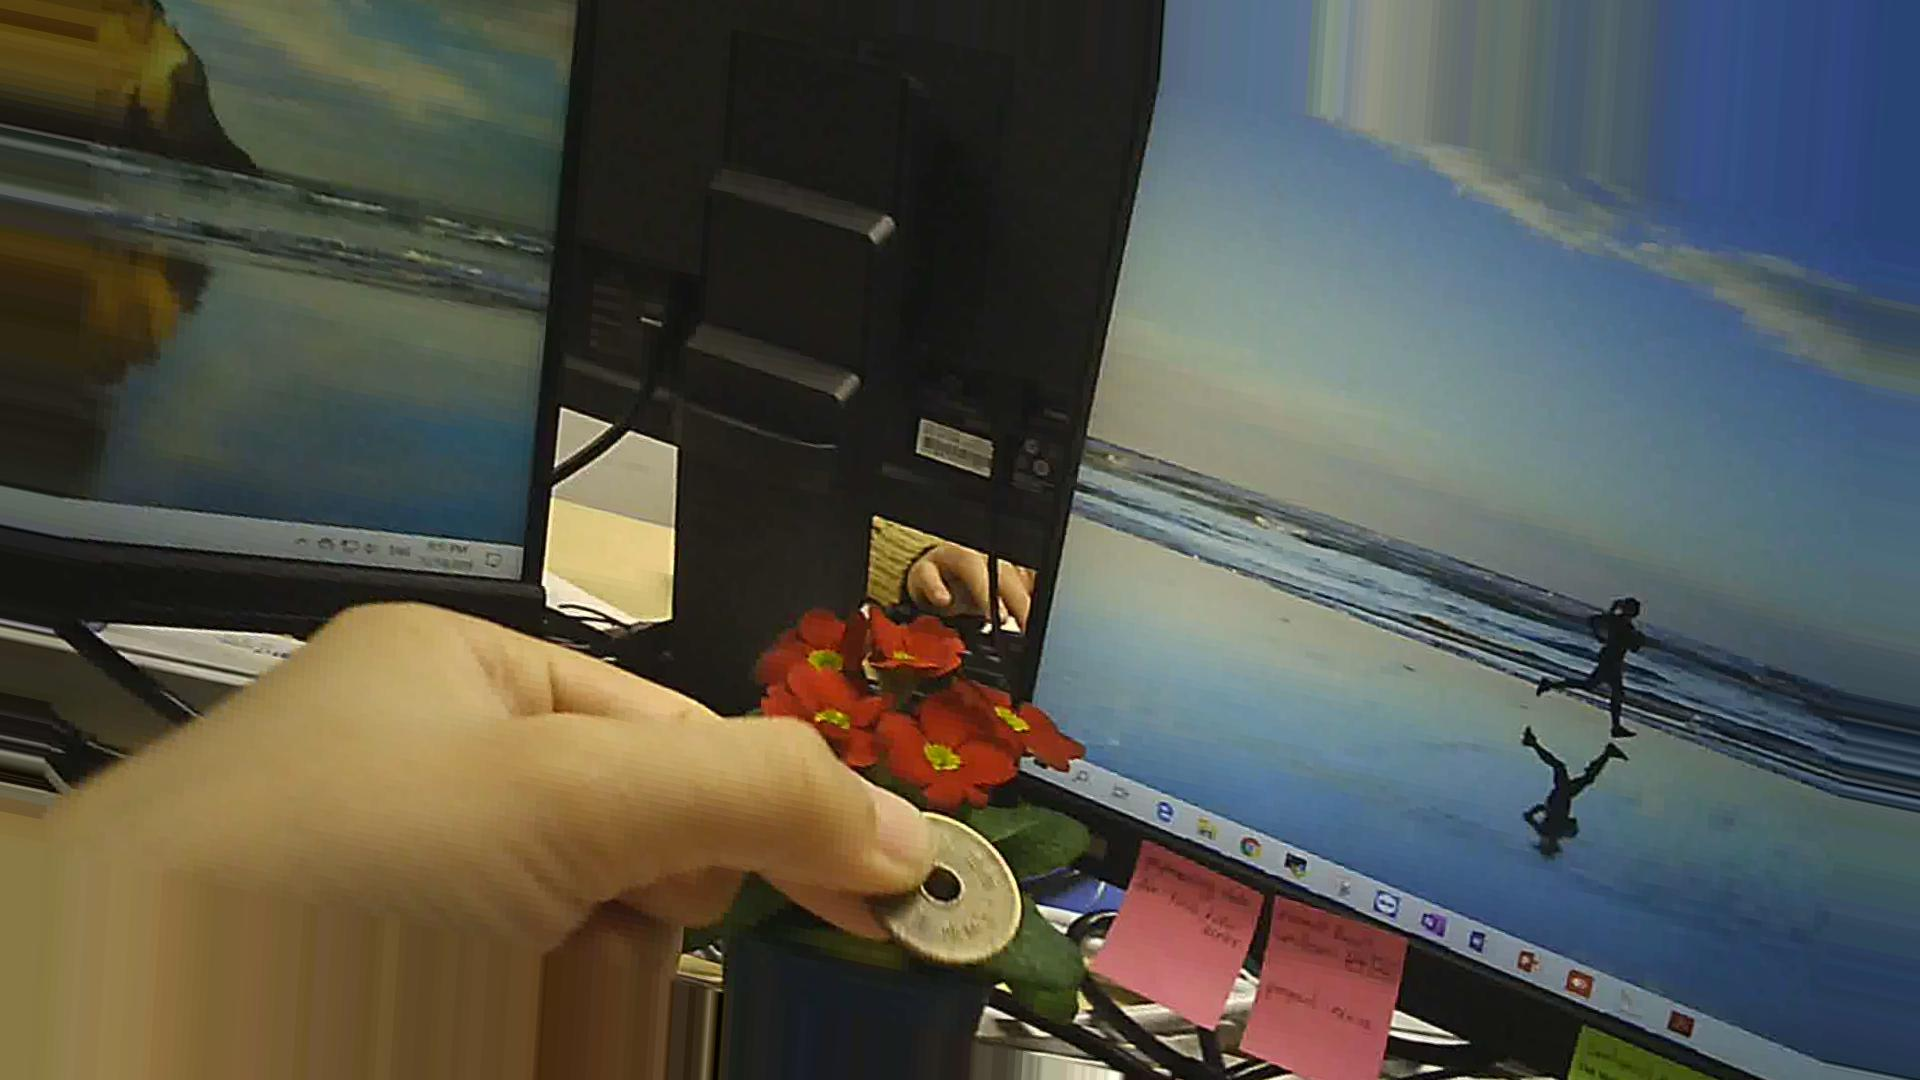5 Yen: (864, 804, 1054, 993)
